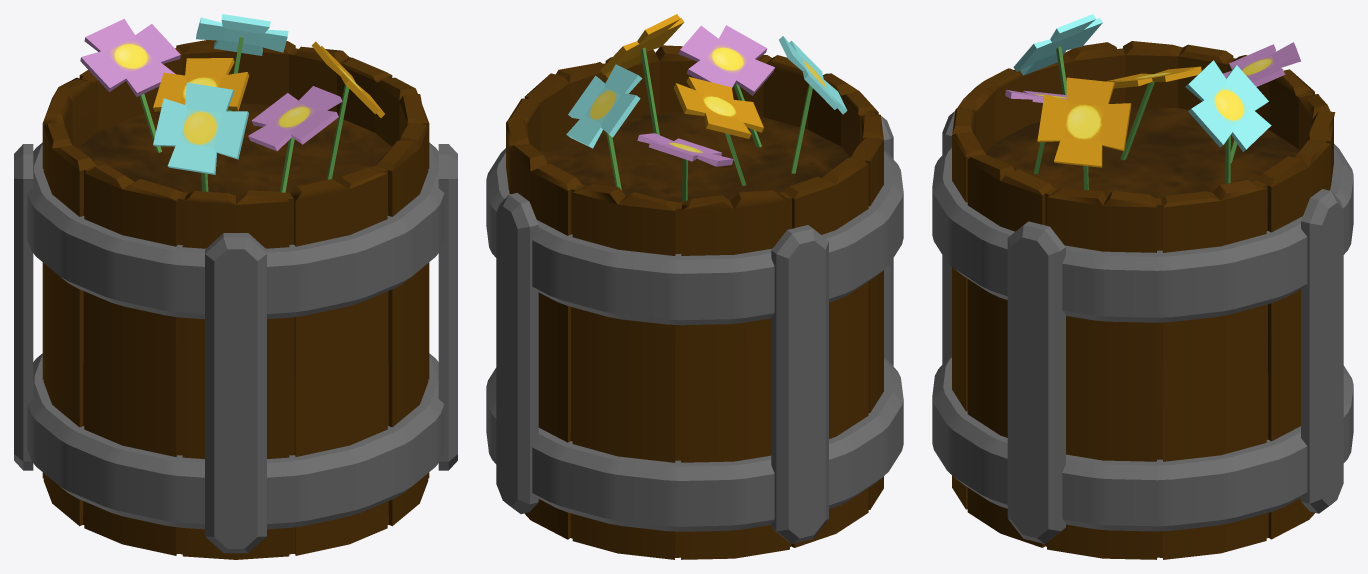
File: pot.fbx
3 renders of one model, left to right at view 1: azimuth 30°, elevation 25°; view 2: azimuth 150°, elevation 25°; view 3: azimuth 270°, elevation 25°, orthographic.
Visible parts, largest first — view 1: pot; view 2: pot; view 3: pot.
Boxes of the visible parts, x1,y1,x2,y2 form: pot: (14, 14, 457, 559); pot: (486, 14, 903, 559); pot: (932, 14, 1353, 559).
Bounding box in the file's own units: 1.15 × 1.29 × 1.15.
Materials: 1 (1 with a texture image).
